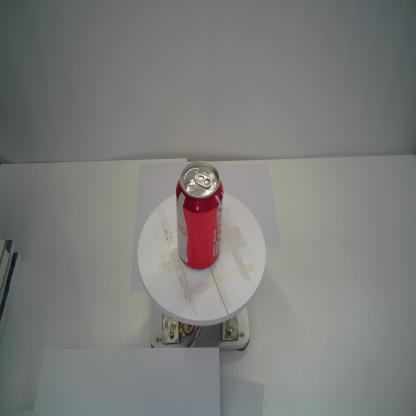Drink: (176, 160, 224, 270)
